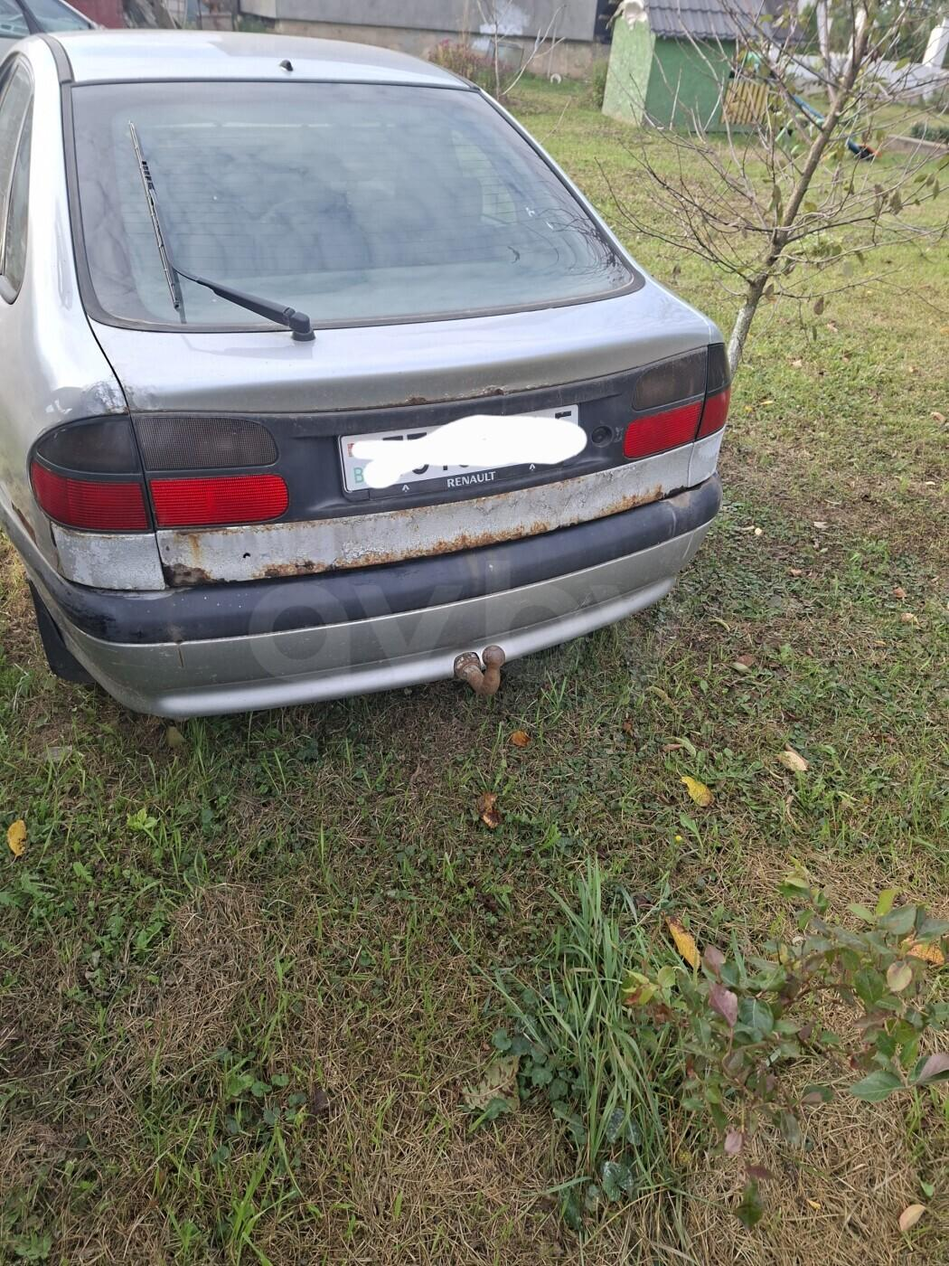Lahuna_1993-1999: (0, 24, 739, 723)
